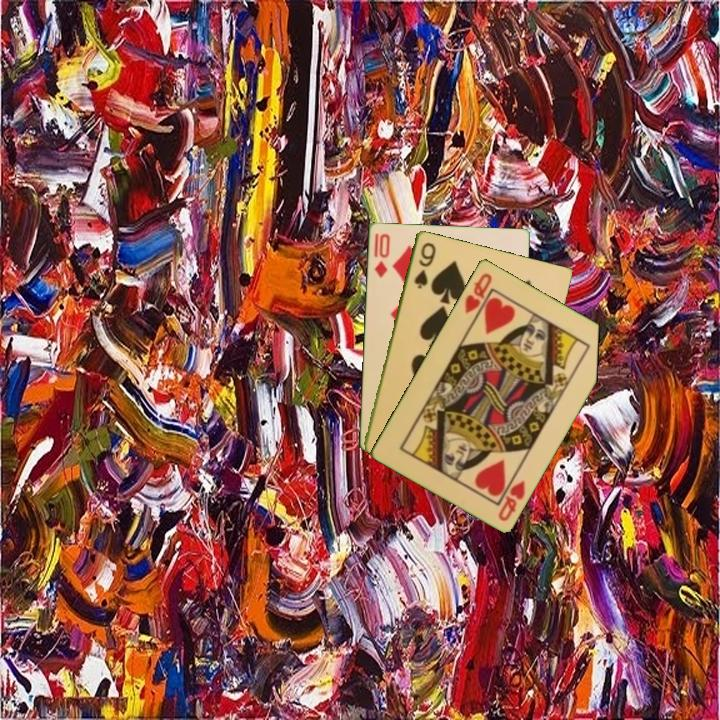10d: (371, 230, 392, 281)
9s: (410, 239, 438, 291)
Qh: (461, 269, 495, 317), (494, 476, 528, 524)
